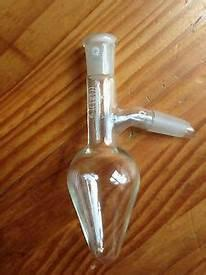Pear shaped flask: (63, 17, 189, 255)
